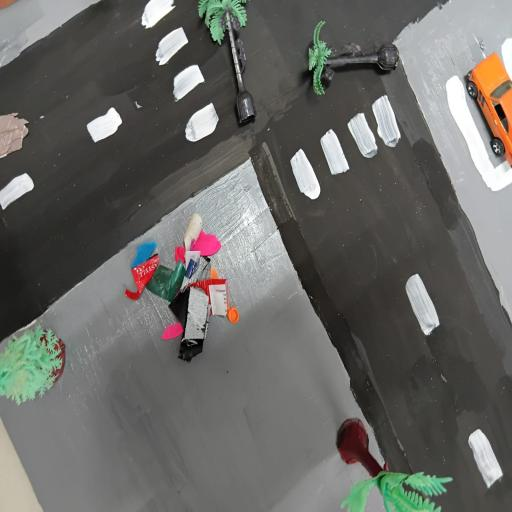fallen trees: (191, 2, 275, 128), (300, 8, 405, 106)
trash: (122, 216, 256, 367)
